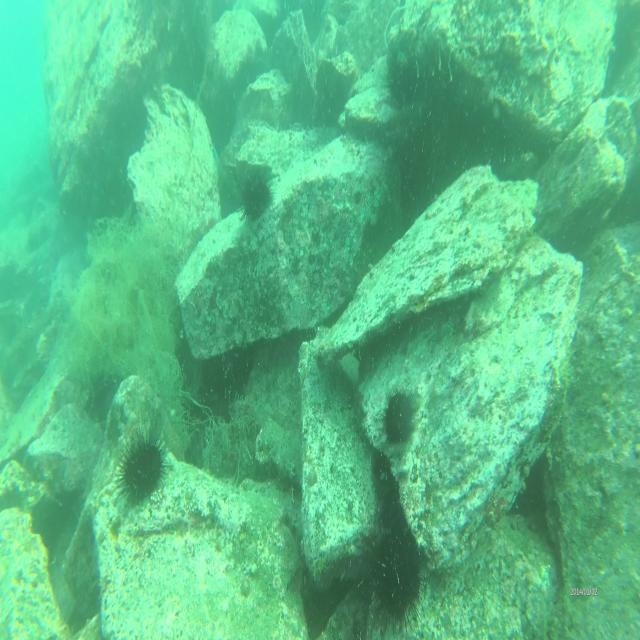echinus: (362, 512, 428, 637), (112, 424, 170, 512), (376, 382, 418, 448), (384, 48, 426, 108), (236, 172, 274, 225)
